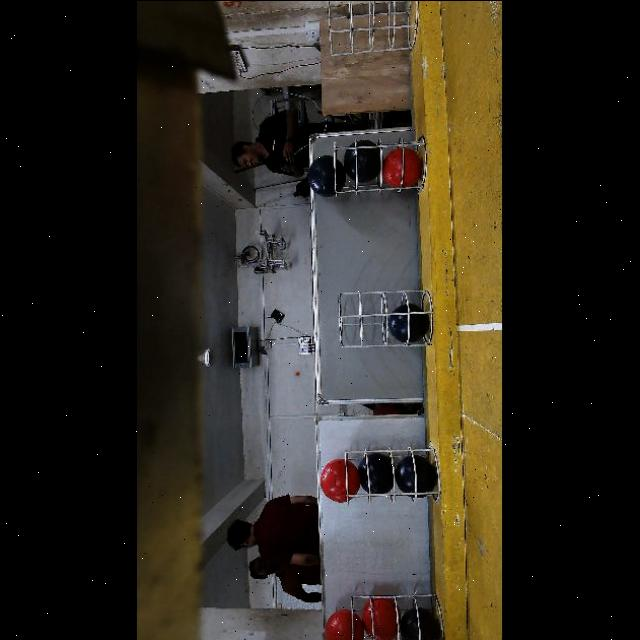P: (342, 140, 380, 183), (395, 456, 434, 496), (355, 451, 392, 493), (307, 155, 344, 196), (388, 303, 427, 341), (400, 606, 439, 640)
R: (362, 597, 400, 640), (382, 147, 421, 188), (320, 461, 358, 500), (325, 609, 364, 640)
S: (345, 440, 441, 506), (332, 138, 428, 194), (324, 0, 418, 54), (345, 292, 433, 344), (351, 594, 445, 640)
